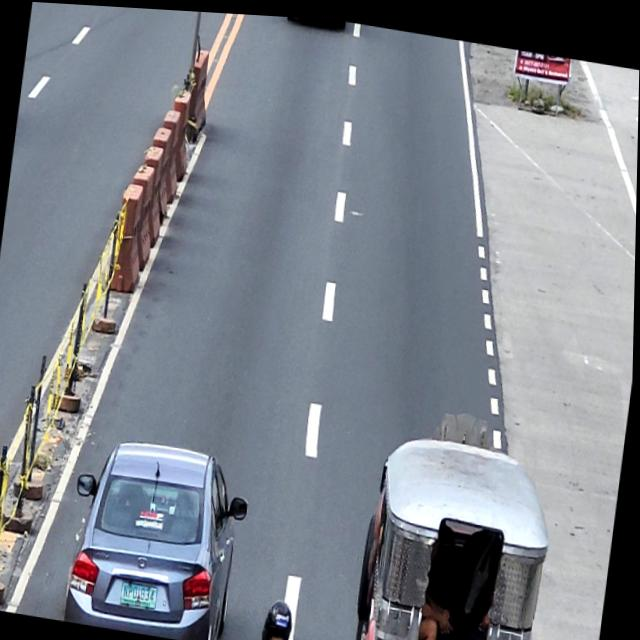Car: (62, 428, 256, 640)
Jeep: (351, 414, 562, 640)
License-Plate: (121, 576, 161, 608)
